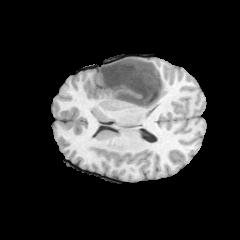glioma: (93, 56, 167, 114)
